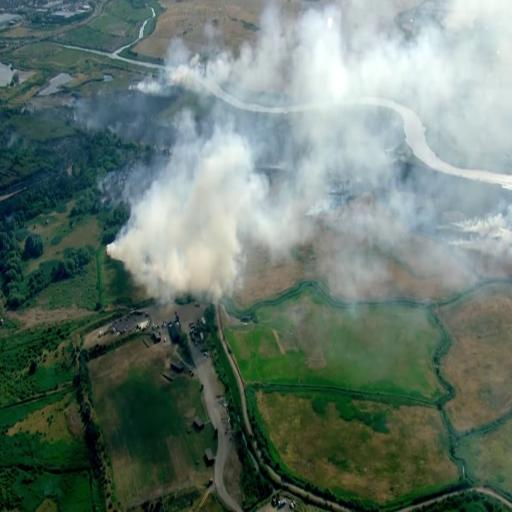smoke: (128, 176, 237, 288)
